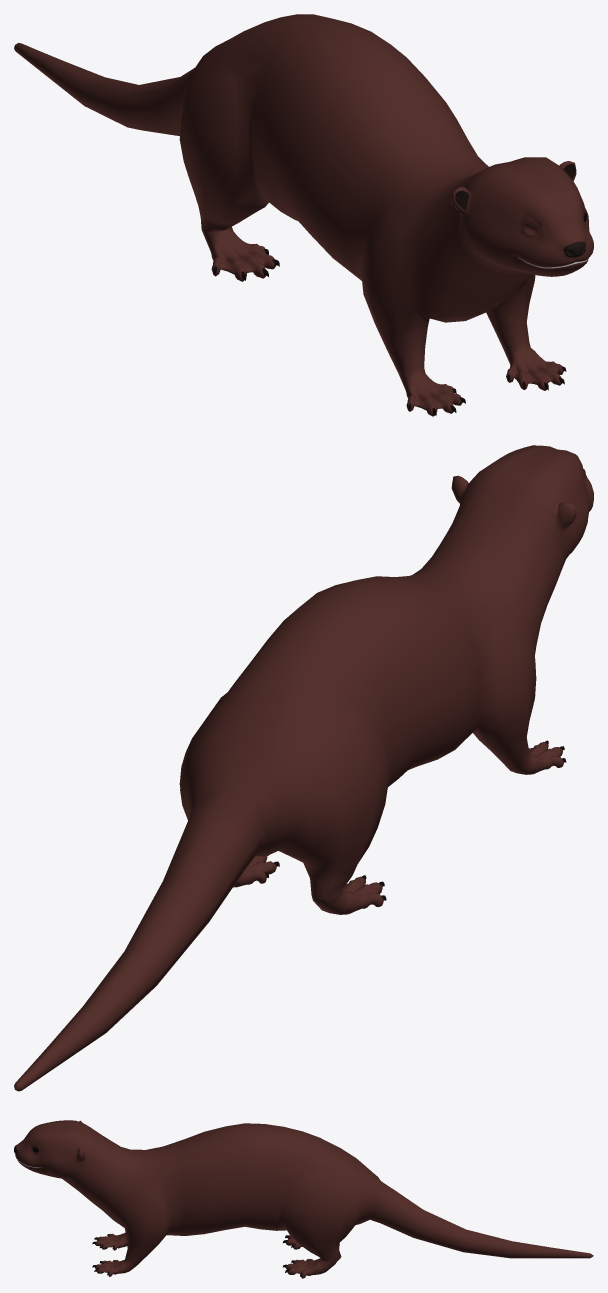
File: otter.obj
3 renders of one model, top to bottom at view 1: azimuth 30°, elevation 25°; view 2: azimuth 150°, elevation 25°; view 3: azimuth 270°, elevation 25°, orthographic. The views are drawn at different scales.
Parts seen in each view (by area): view 1: otter; view 2: otter; view 3: otter.
Boxes of the visible parts, x1,y1,x2,y2 form: otter: (14, 14, 593, 416); otter: (14, 445, 593, 1091); otter: (14, 1120, 593, 1278).
Size of the model in its own units: 0.2156 by 0.3073 by 1.22.
